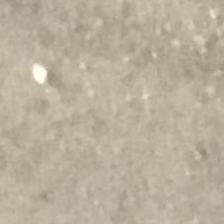Non_Crack: (18, 42, 224, 194)
